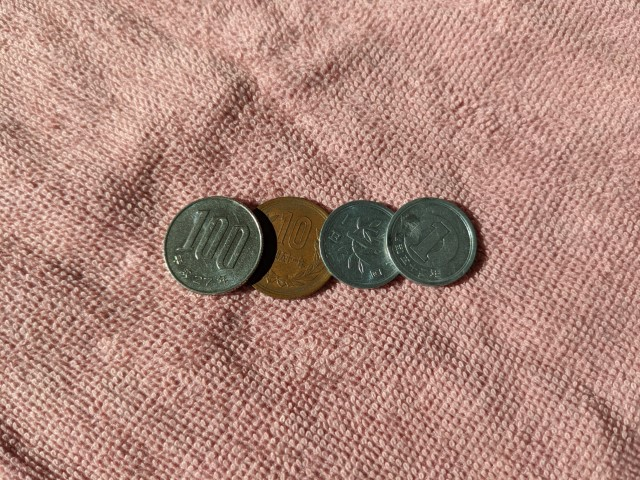100yen: (163, 196, 263, 295)
10yen: (247, 197, 332, 299)
1yen: (386, 198, 477, 286), (319, 201, 400, 288)
